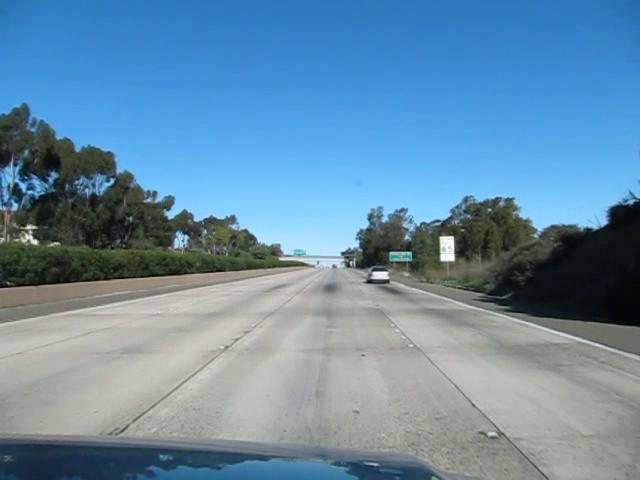speedLimit65: (439, 235, 454, 255)
